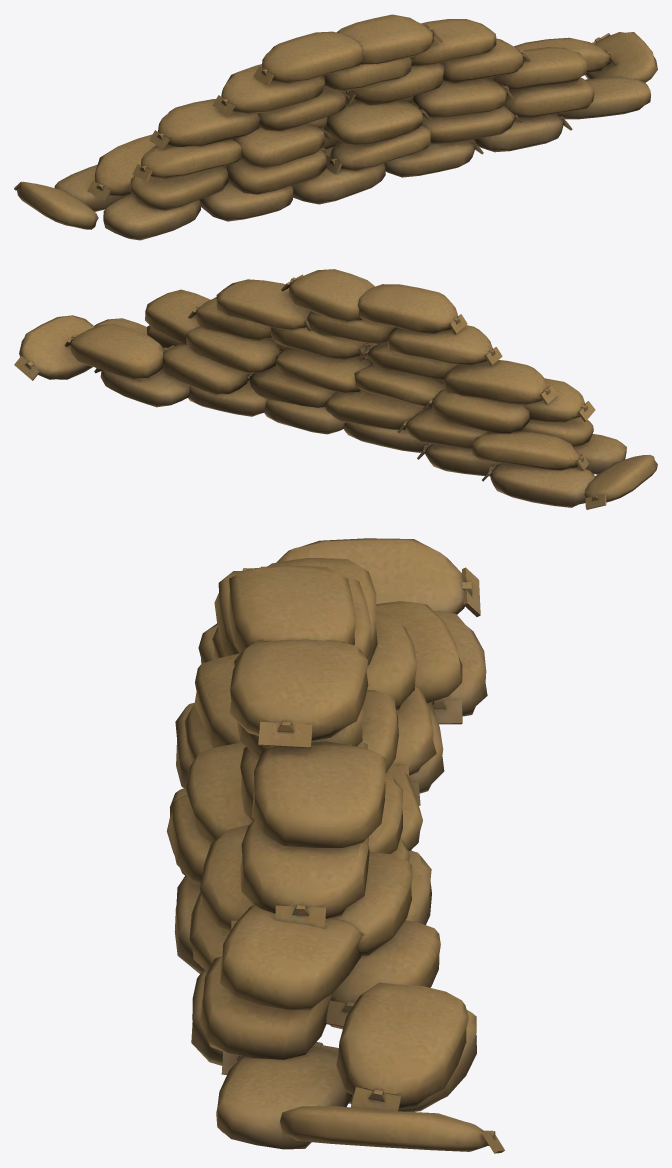
File: sandbag_berm.glb
The picture shows the model from 3 angles, top to bottom: view 1: azimuth 30°, elevation 25°; view 2: azimuth 150°, elevation 25°; view 3: azimuth 270°, elevation 25°; orthographic projection. The views are drawn at different scales.
Visible parts, largest first — view 1: sandbag_berm; view 2: sandbag_berm; view 3: sandbag_berm.
Part boxes in pixels (x1,y1,x2,y2): sandbag_berm: (14, 14, 657, 240); sandbag_berm: (14, 269, 657, 509); sandbag_berm: (166, 538, 504, 1153).
Size of the model in its own units: 4.19 by 0.8675 by 1.01.
1 material, 1 textured.
